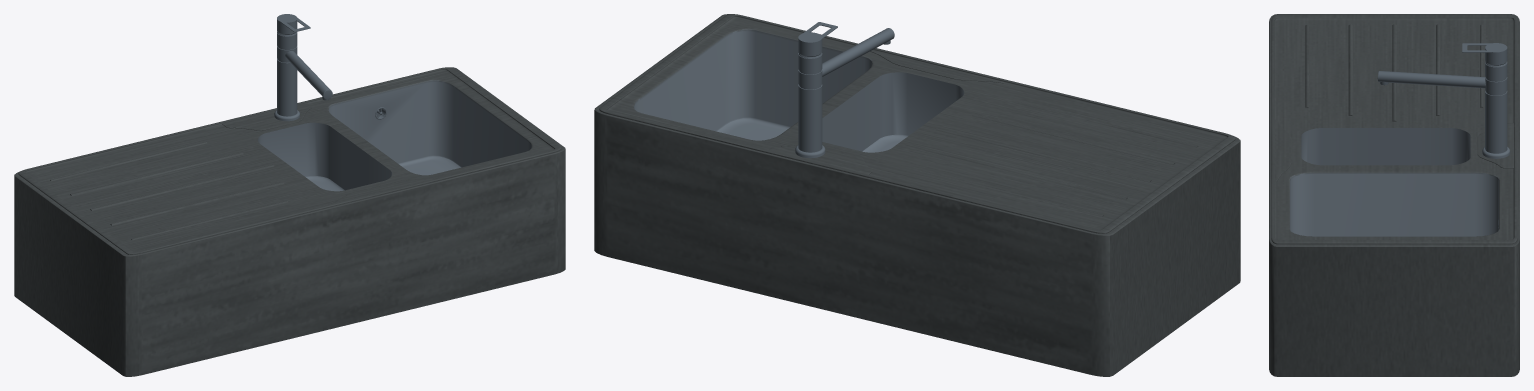
The model's file is sink_combined.gltf.
3 views of the same model, side by side, from view 1: azimuth 30°, elevation 25°; view 2: azimuth 150°, elevation 25°; view 3: azimuth 270°, elevation 25° (orthographic). The views are drawn at different scales.
Parts seen in each view (by area): view 1: Sink; view 2: Sink; view 3: Sink.
Part boxes in pixels (left/top/right/bottom): Sink: left=14, top=14, right=565, bottom=376; Sink: left=594, top=14, right=1240, bottom=376; Sink: left=1269, top=14, right=1519, bottom=376.
Bounding box in the file's own units: 9.81 × 4.64 × 4.46.
Materials: 1 (1 with a texture image).
